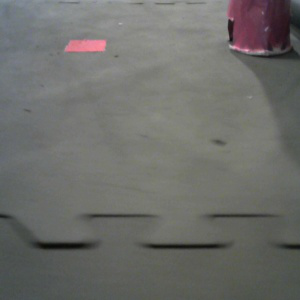Right: (224, 1, 295, 56)
